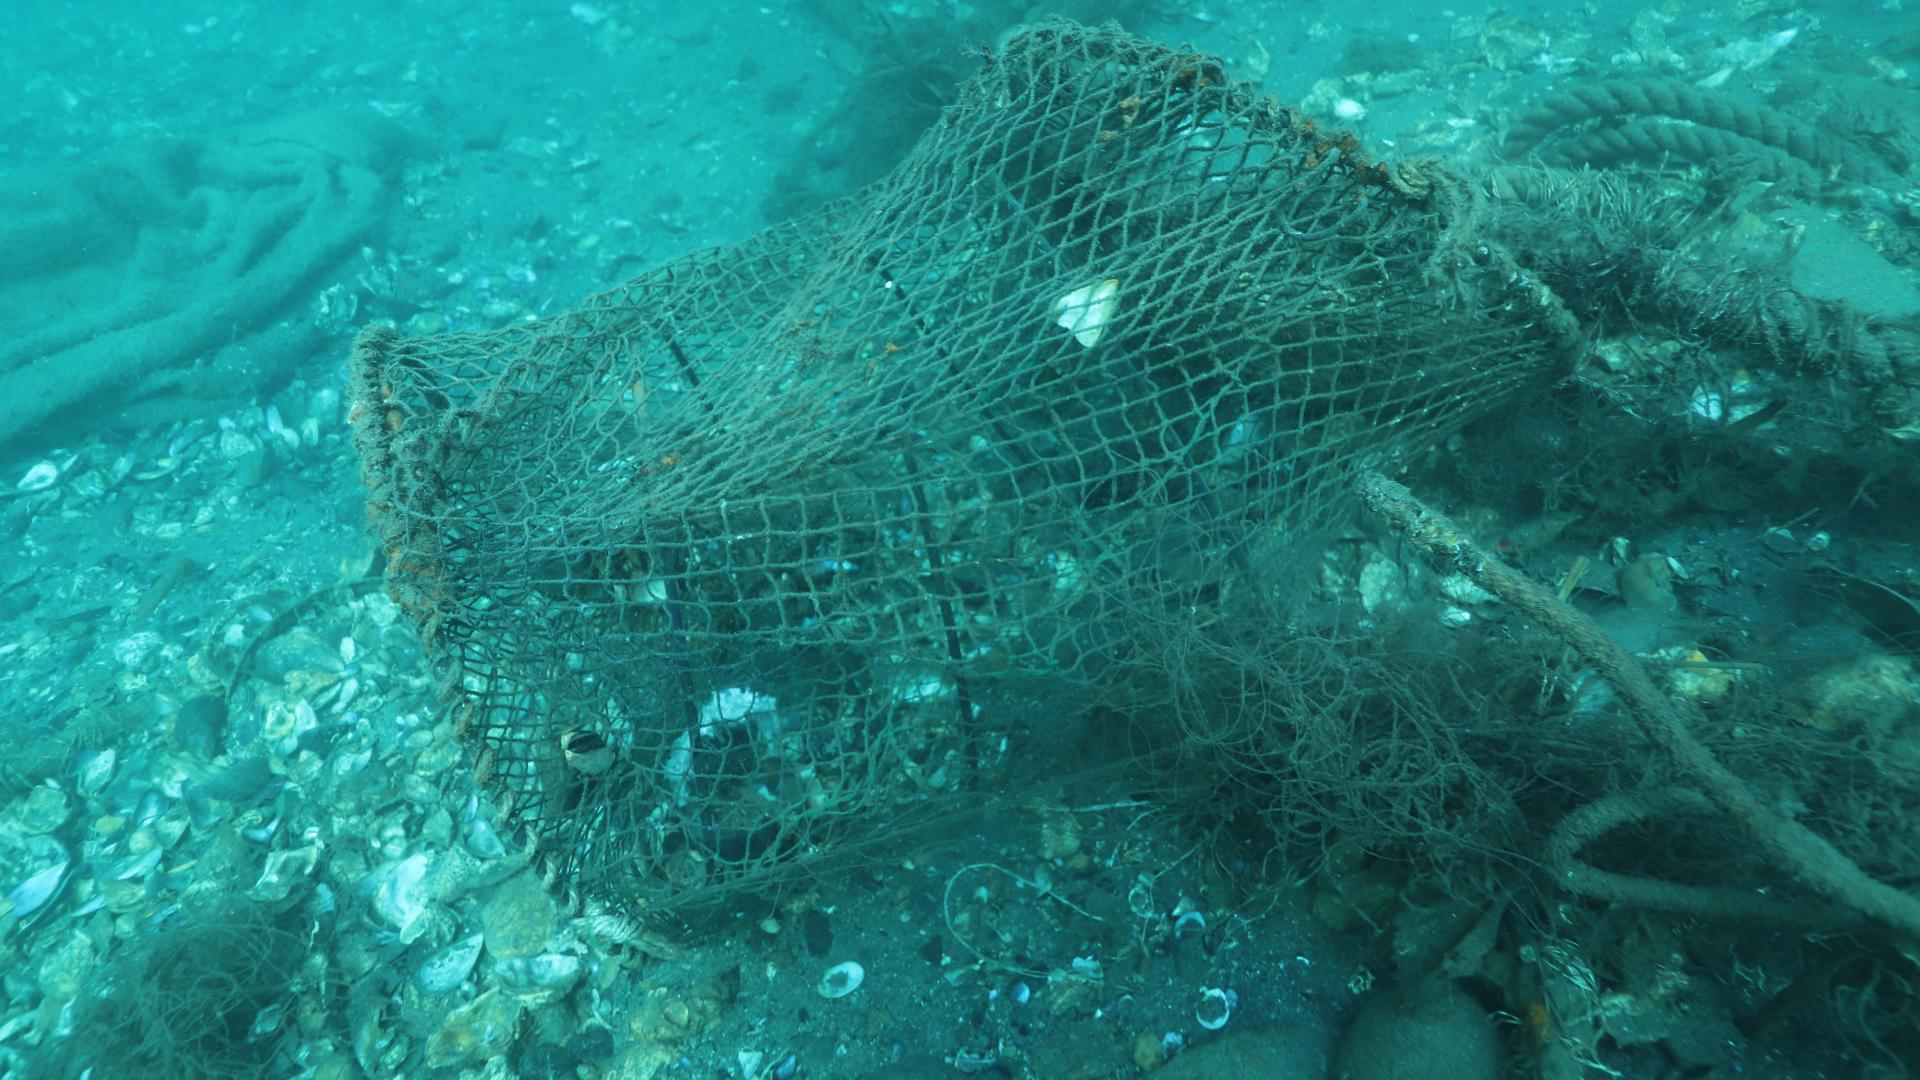bundle of ropes: (1498, 76, 1838, 199), (1385, 152, 1489, 240)
spring fish trap: (349, 18, 1589, 985)
